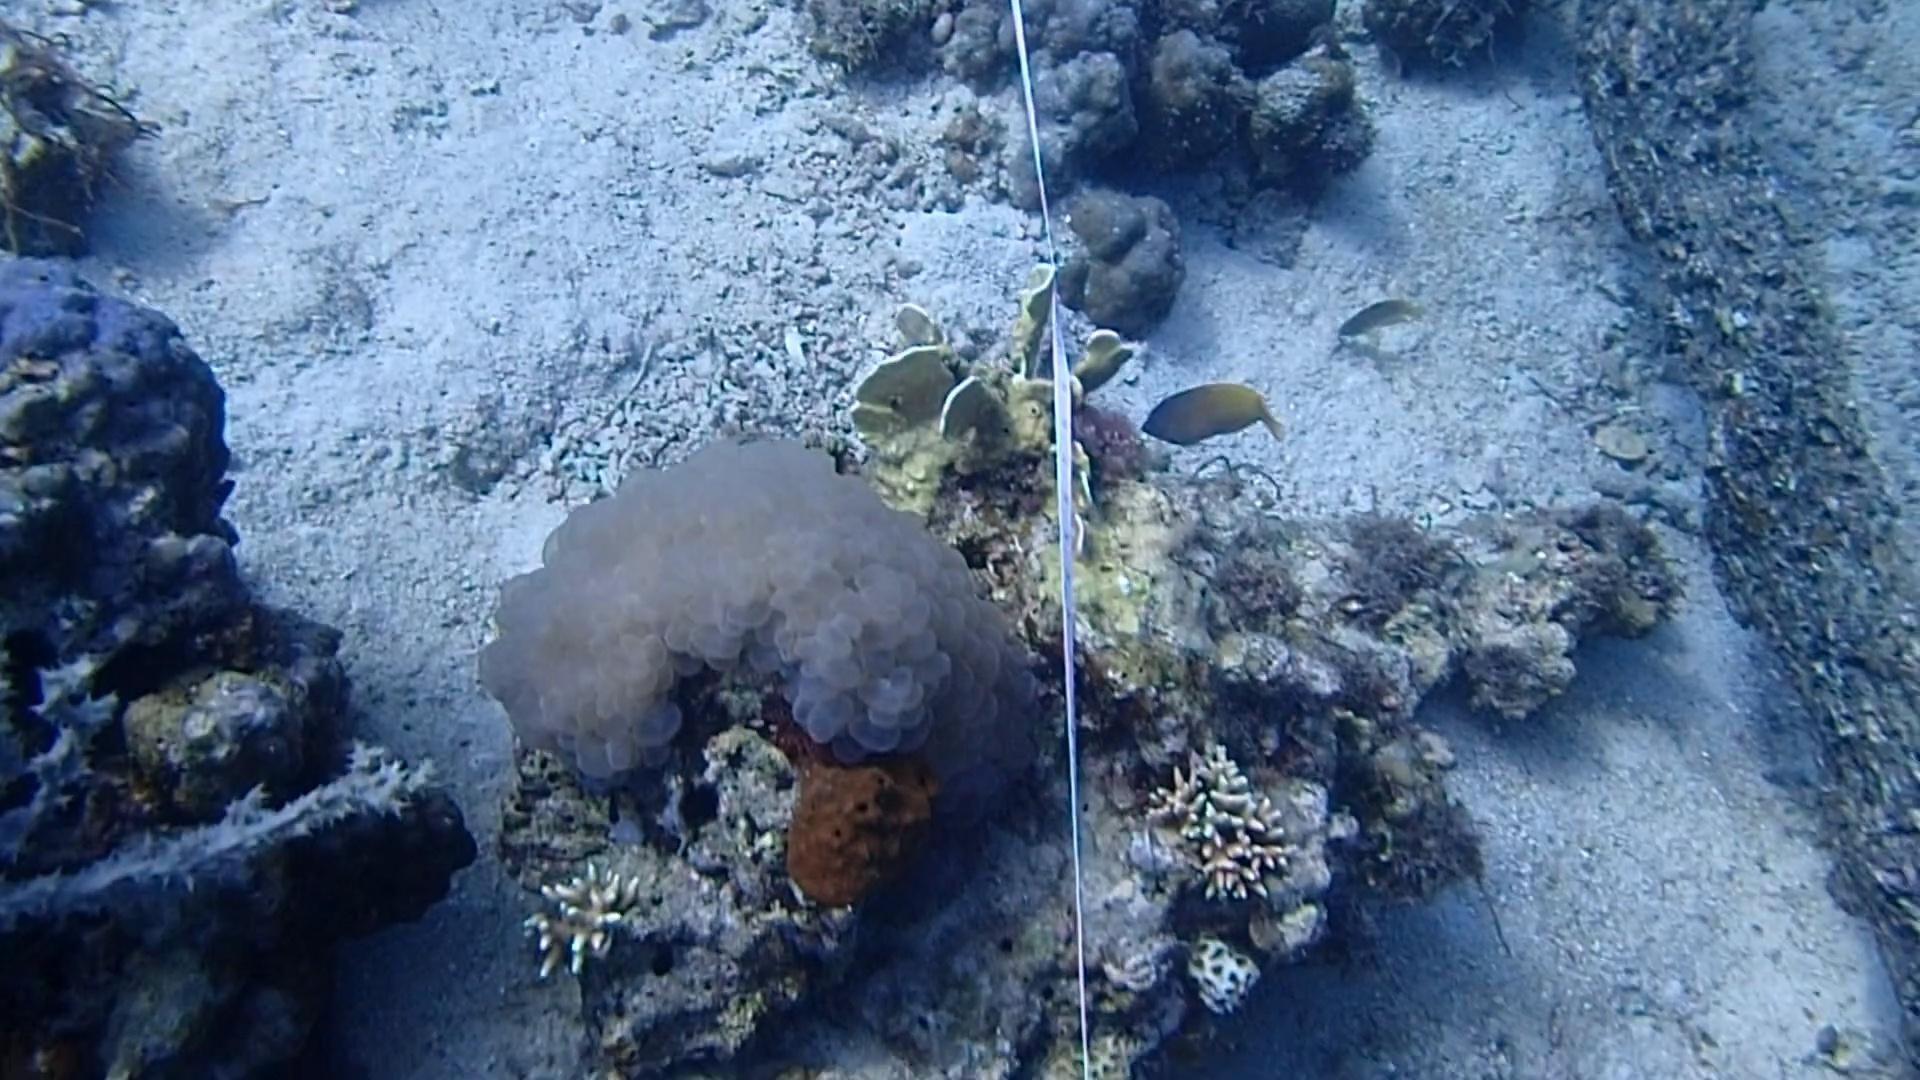Light Fish: (1332, 284, 1428, 356)
Yellow-Blue Fish: (1127, 363, 1291, 462)
